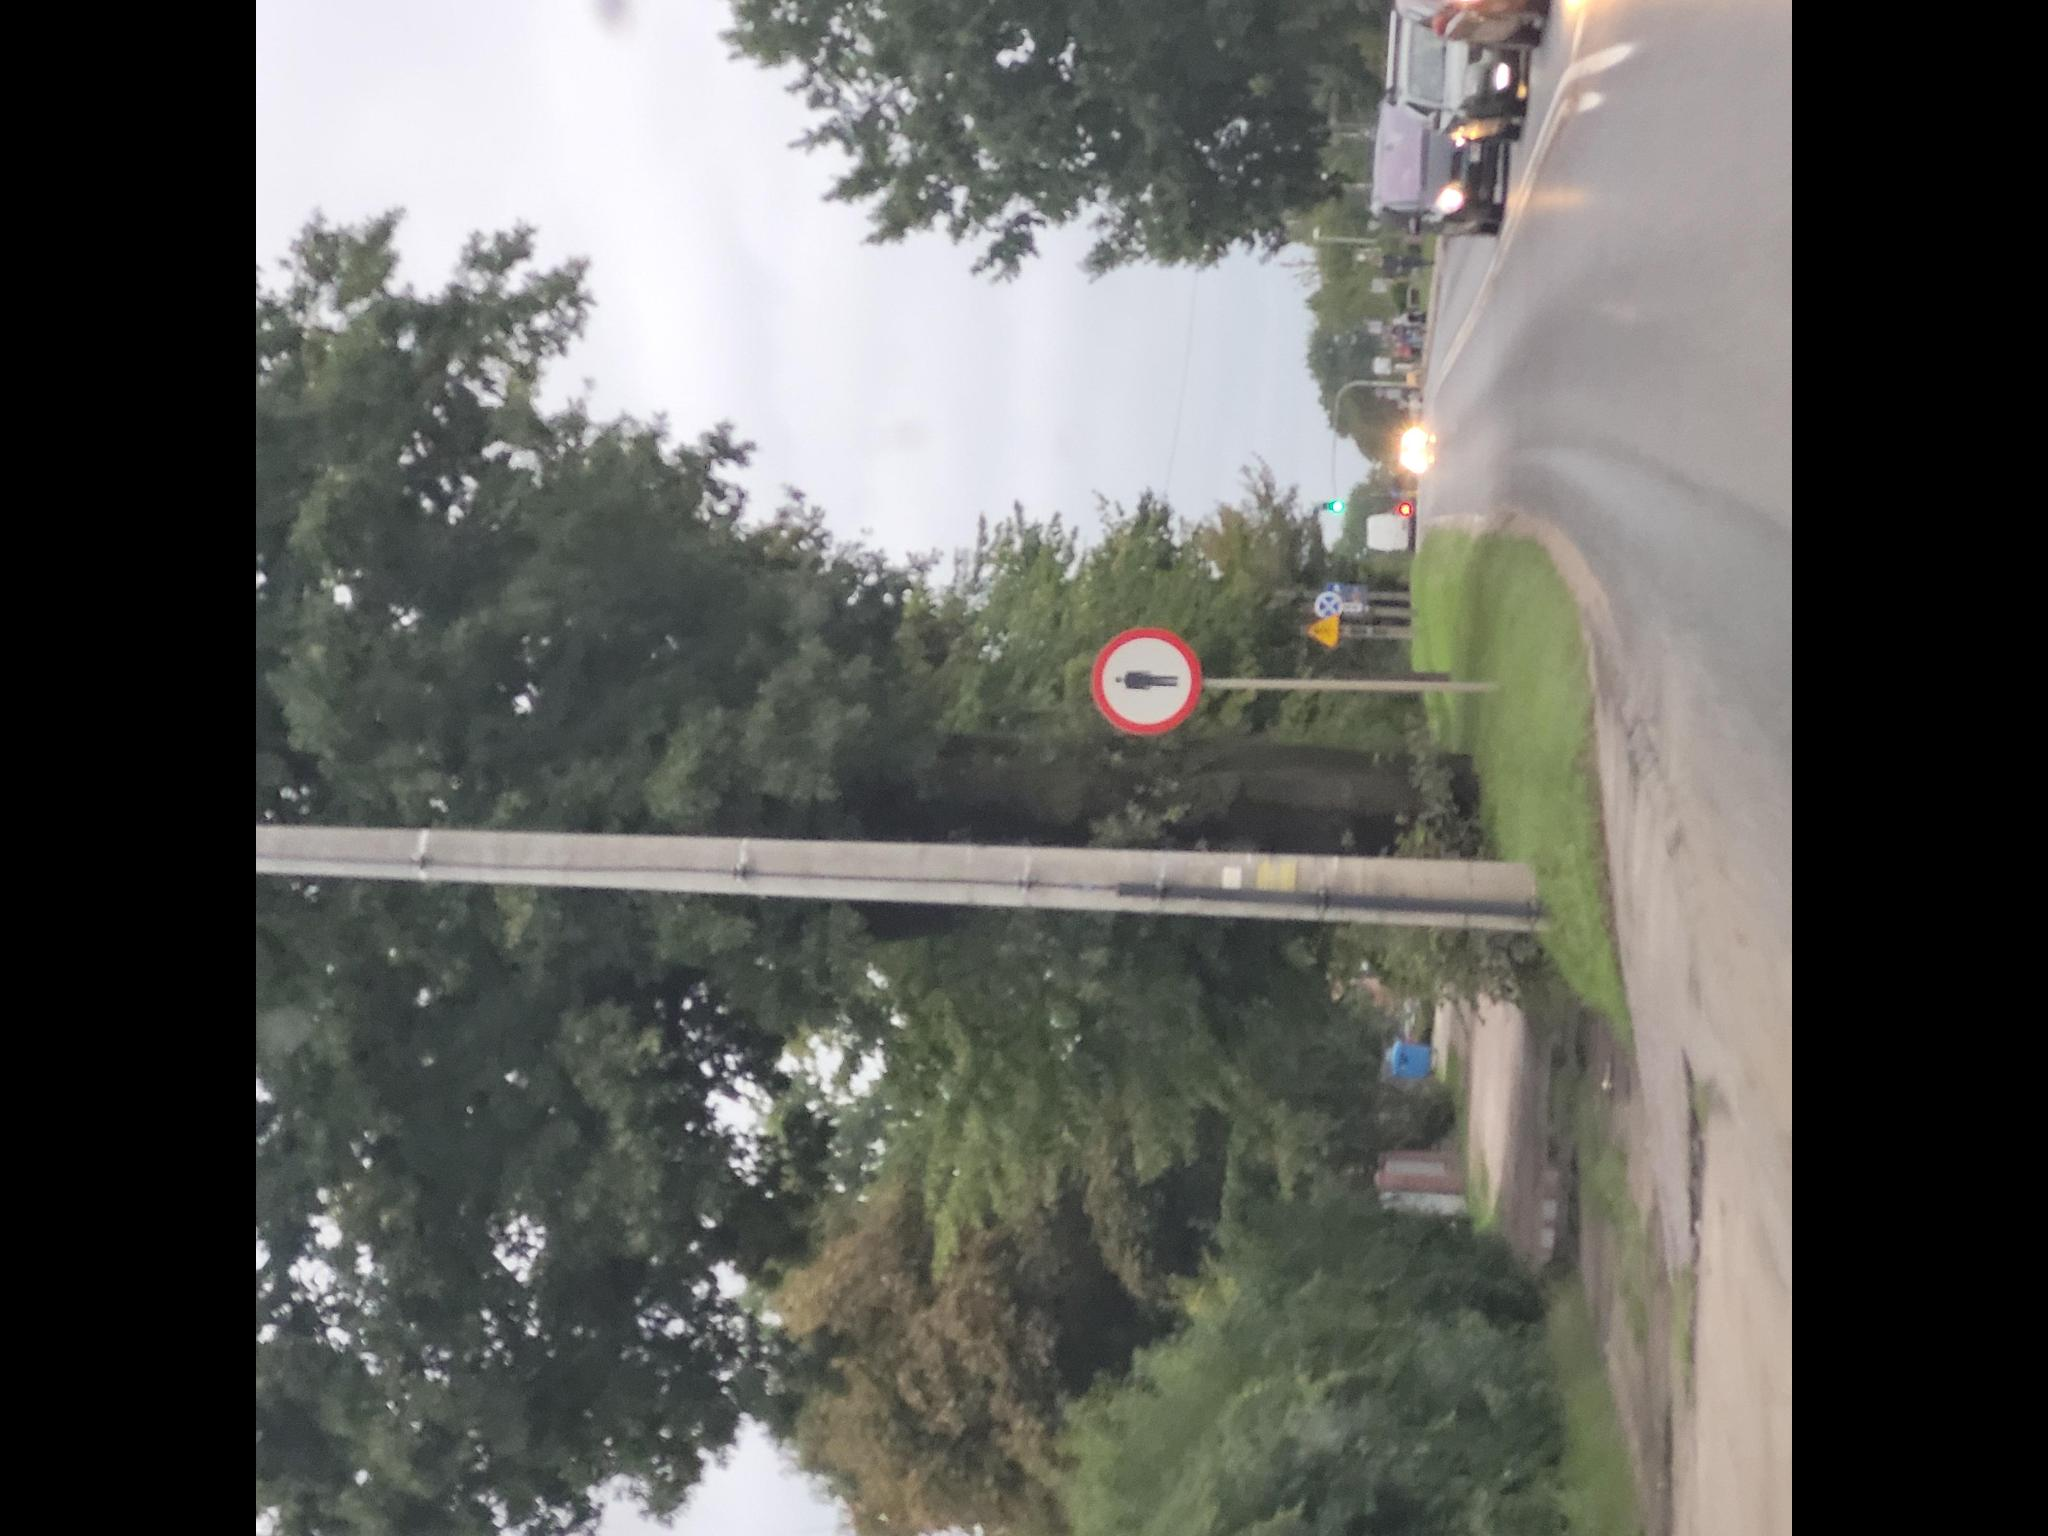prohibitory: (1085, 621, 1206, 739), (1316, 592, 1343, 618)
warning: (1308, 615, 1338, 647)
